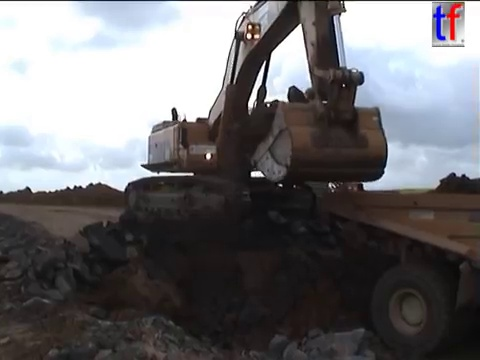excavator: (120, 1, 391, 229), (317, 160, 368, 201)
truck: (314, 187, 480, 360)
